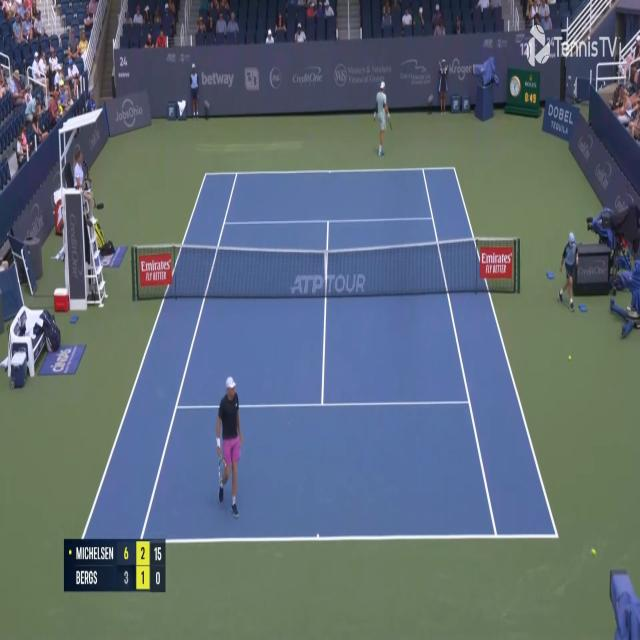tennis-player: (215, 373, 244, 518), (371, 79, 392, 160)
